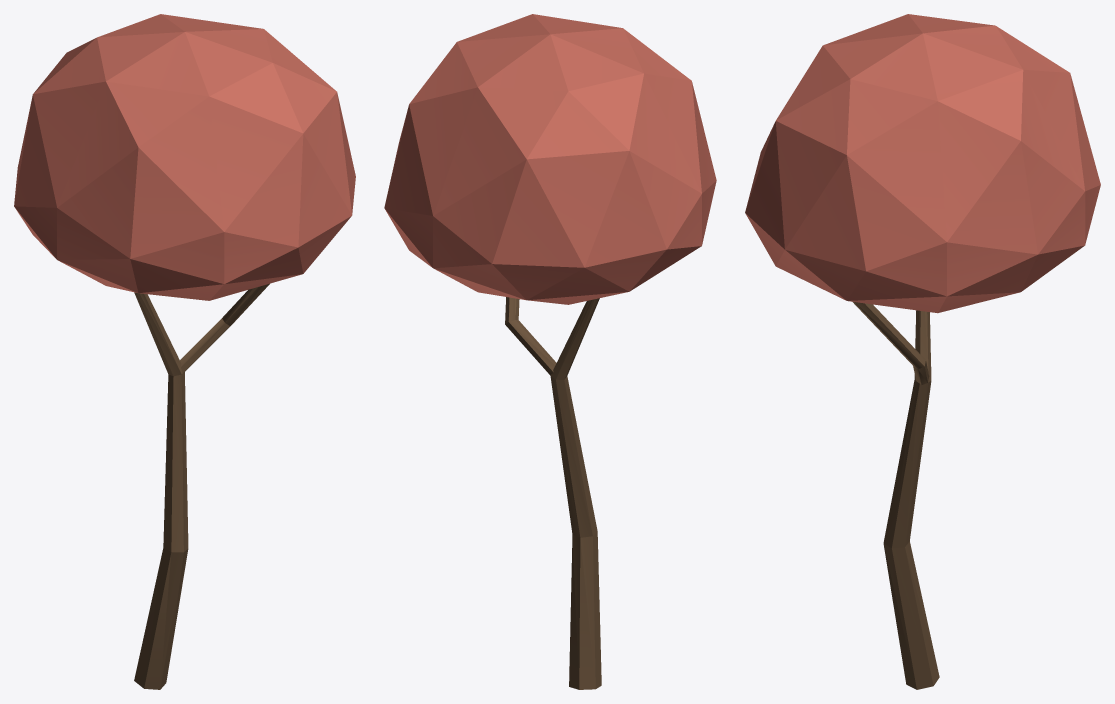
Rendered from tree_red_3.glb.
3 renders of one model, left to right at view 1: azimuth 30°, elevation 25°; view 2: azimuth 150°, elevation 25°; view 3: azimuth 270°, elevation 25°, orthographic. The views are drawn at different scales.
Parts seen in each view (by area): view 1: Tree Red 3; view 2: Tree Red 3; view 3: Tree Red 3.
Part boxes in pixels (bbox=[...]): Tree Red 3: bbox=[14, 14, 355, 689]; Tree Red 3: bbox=[384, 14, 716, 689]; Tree Red 3: bbox=[745, 14, 1100, 689].
Bounding box in the file's own units: 0.1721 × 0.3691 × 0.1783.
